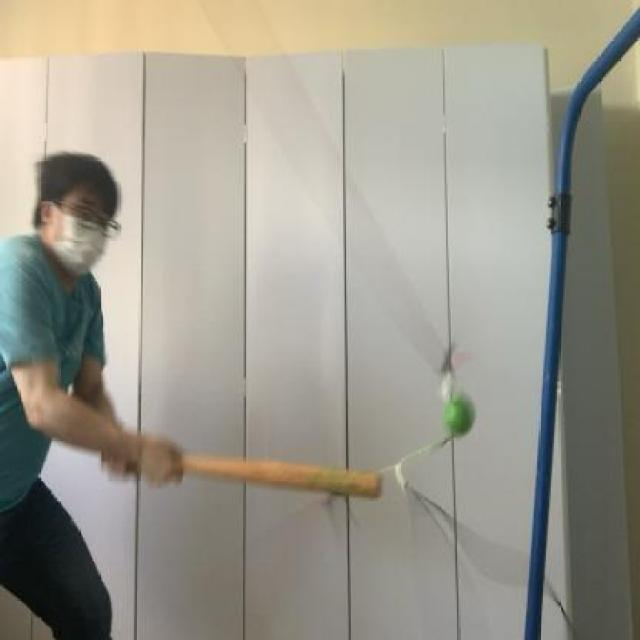baseball: (431, 387, 483, 445)
